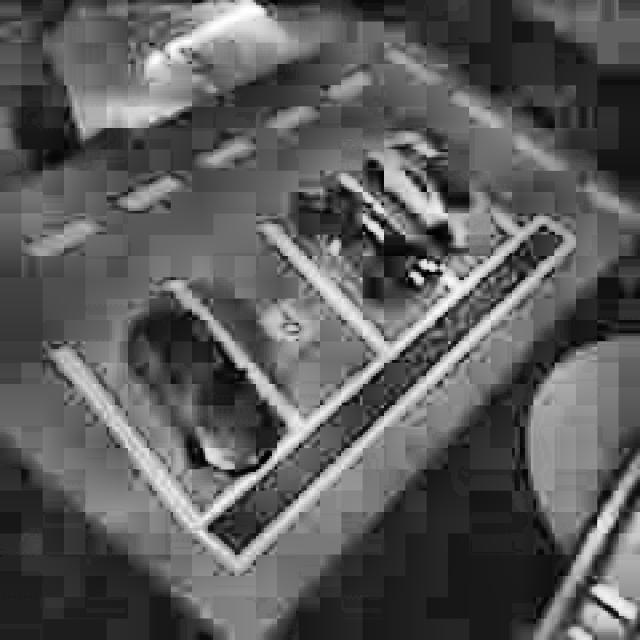car: (130, 301, 274, 476), (294, 171, 441, 302), (371, 135, 503, 249)
